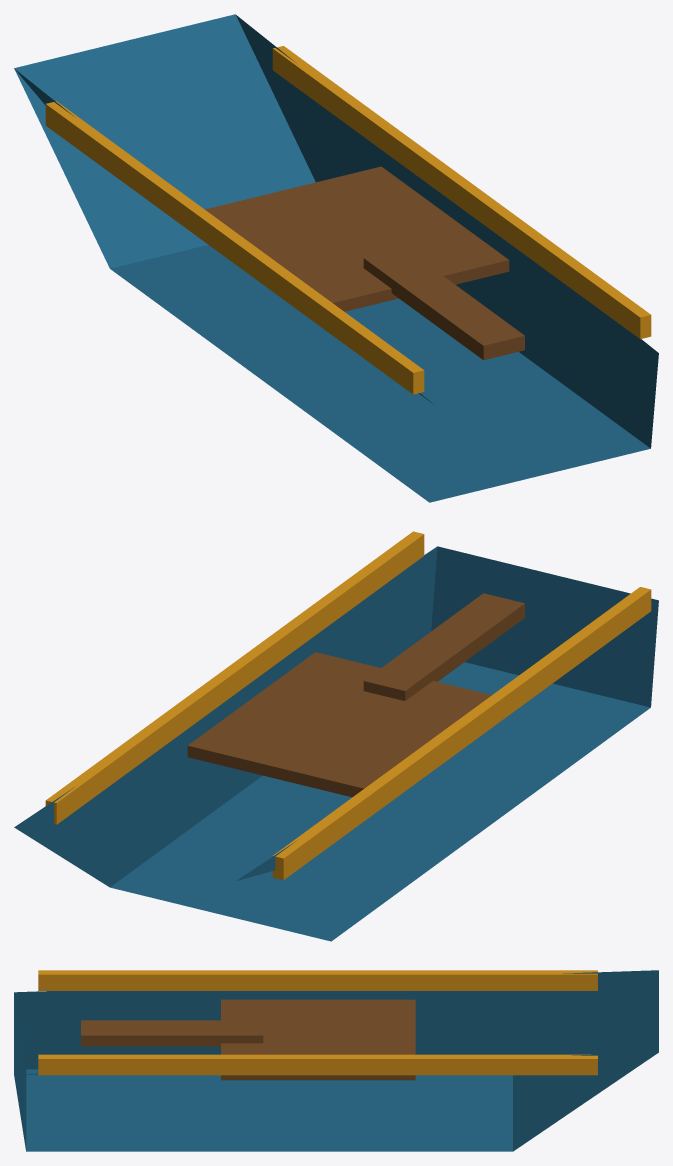
Rendered from fishing_boat.glb.
3 renders of one model, top to bottom at view 1: azimuth 30°, elevation 25°; view 2: azimuth 150°, elevation 25°; view 3: azimuth 270°, elevation 25°, orthographic. The views are drawn at different scales.
Visible parts, largest first — view 1: model; view 2: model; view 3: model.
Part boxes in pixels (x1,y1,x2,y2): model: (14,14,658,502); model: (14,531,658,941); model: (14,970,658,1151).
Bounding box in the file's own units: 1.72 × 0.9 × 5.3.
